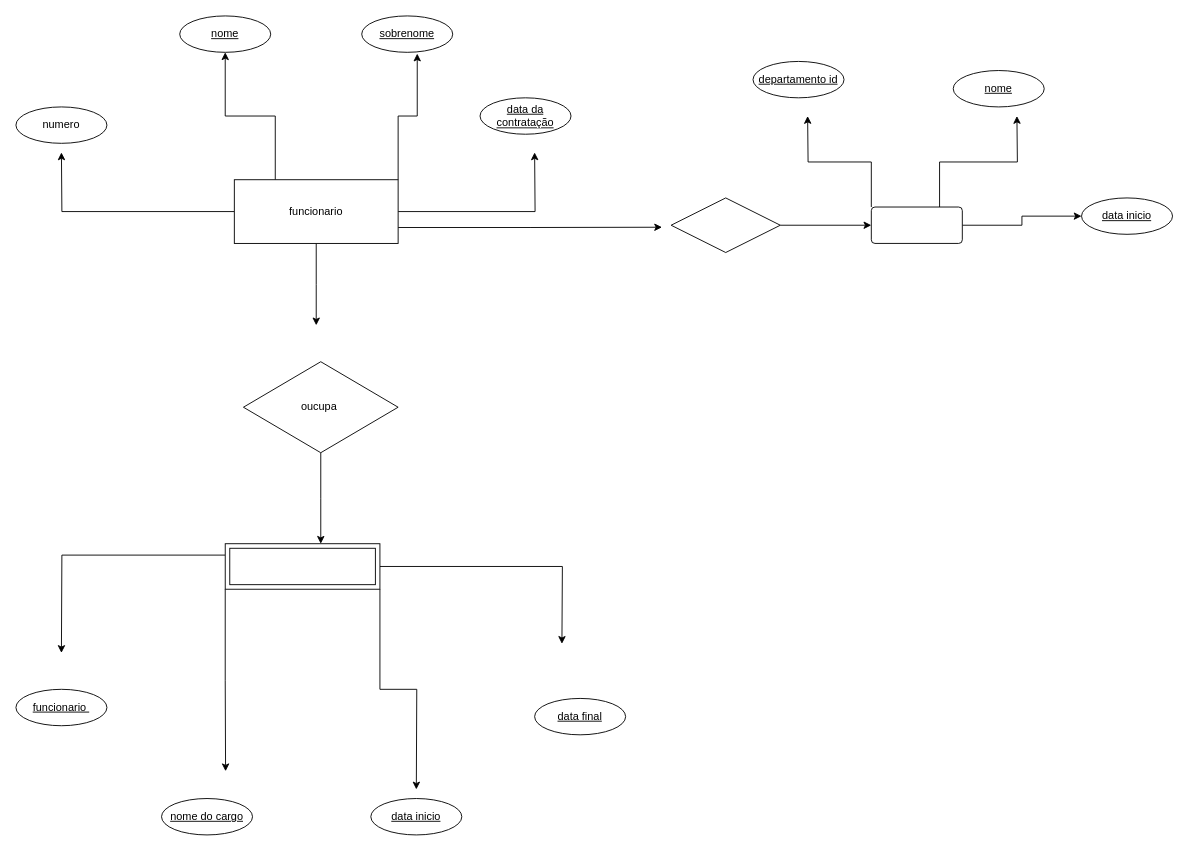
The diagram is 1188 pixels wide and 851 high, and some of its shapes have lost their labels. The centre of each missing label's shape, as x and y in pixels:
"cargo" goes at point 302,566.
"departamento" goes at point 916,224.
"trabalha" goes at point 725,225.
